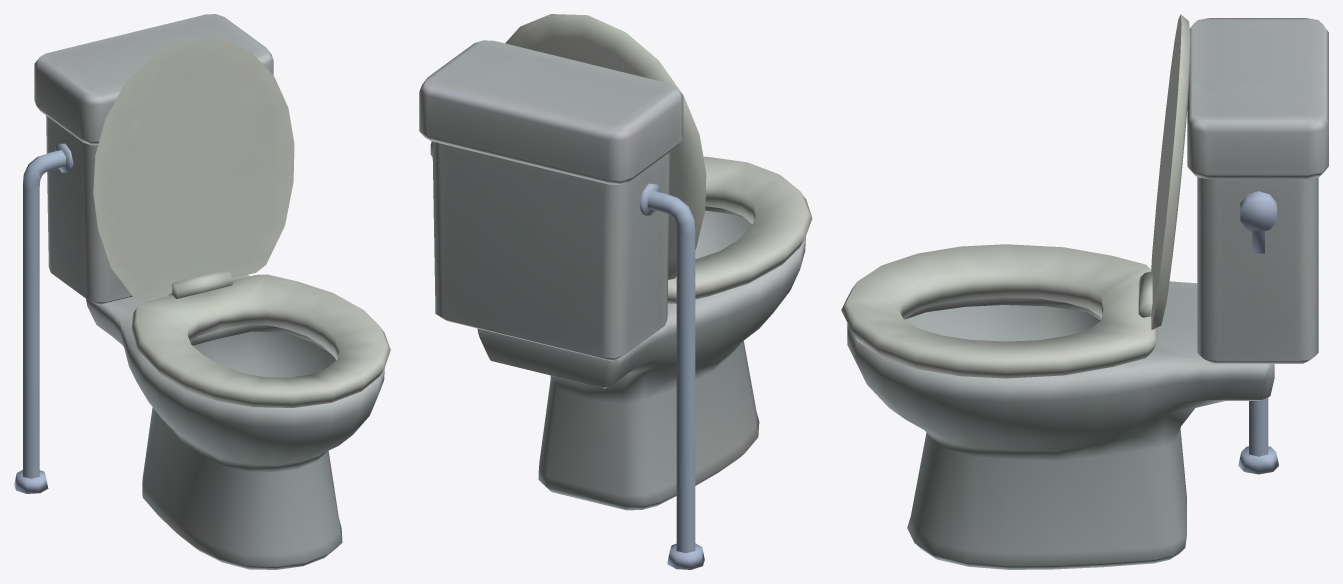
3 views of the same model, side by side, from view 1: azimuth 30°, elevation 25°; view 2: azimuth 150°, elevation 25°; view 3: azimuth 270°, elevation 25° (orthographic). The views are drawn at different scales.
Size of the model in its own units: 6.35 by 11.02 by 9.54.
2 materials, 2 textured.
